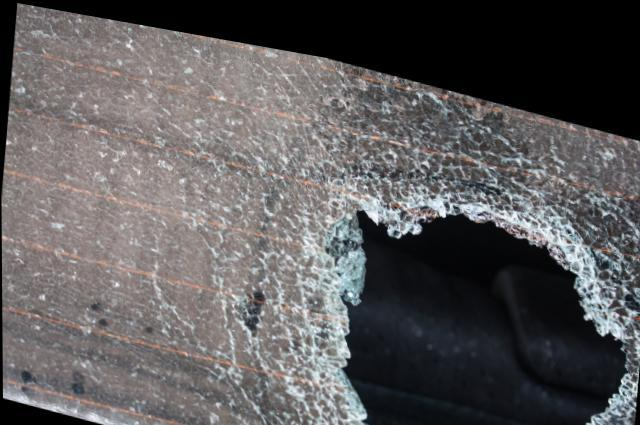glass shatter: (1, 2, 640, 425)
